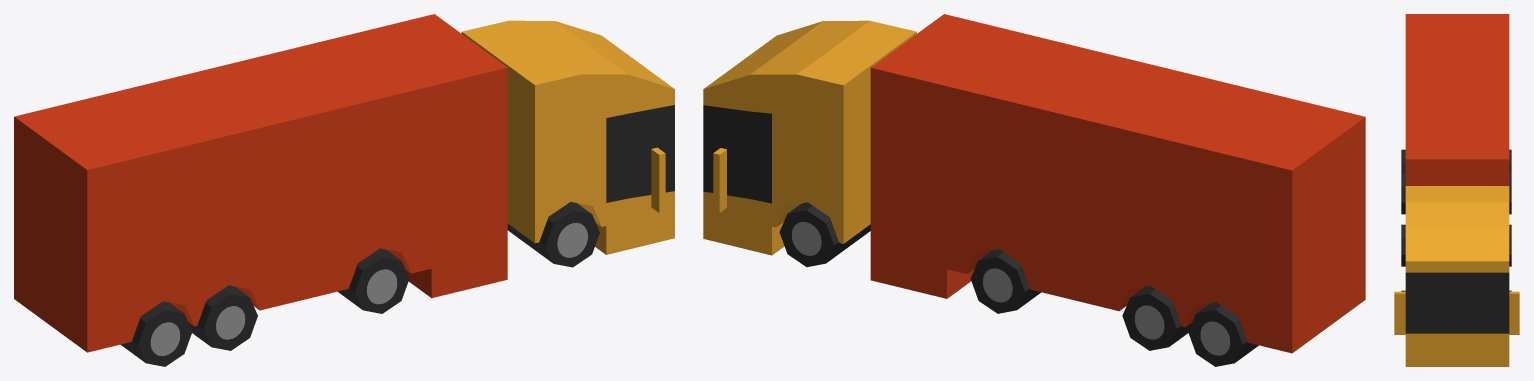
File: caminhao.fbx
3 views of the same model, side by side, from view 1: azimuth 30°, elevation 25°; view 2: azimuth 150°, elevation 25°; view 3: azimuth 270°, elevation 25° (orthographic). The views are drawn at different scales.
Visible parts, largest first — view 1: Cube.009; view 2: Cube.009; view 3: Cube.009.
Part boxes in pixels (left/top/right/bottom): Cube.009: left=14, top=14, right=674, bottom=366; Cube.009: left=703, top=14, right=1365, bottom=366; Cube.009: left=1394, top=14, right=1519, bottom=366.
Size of the model in its own units: 927 by 321 by 242.
